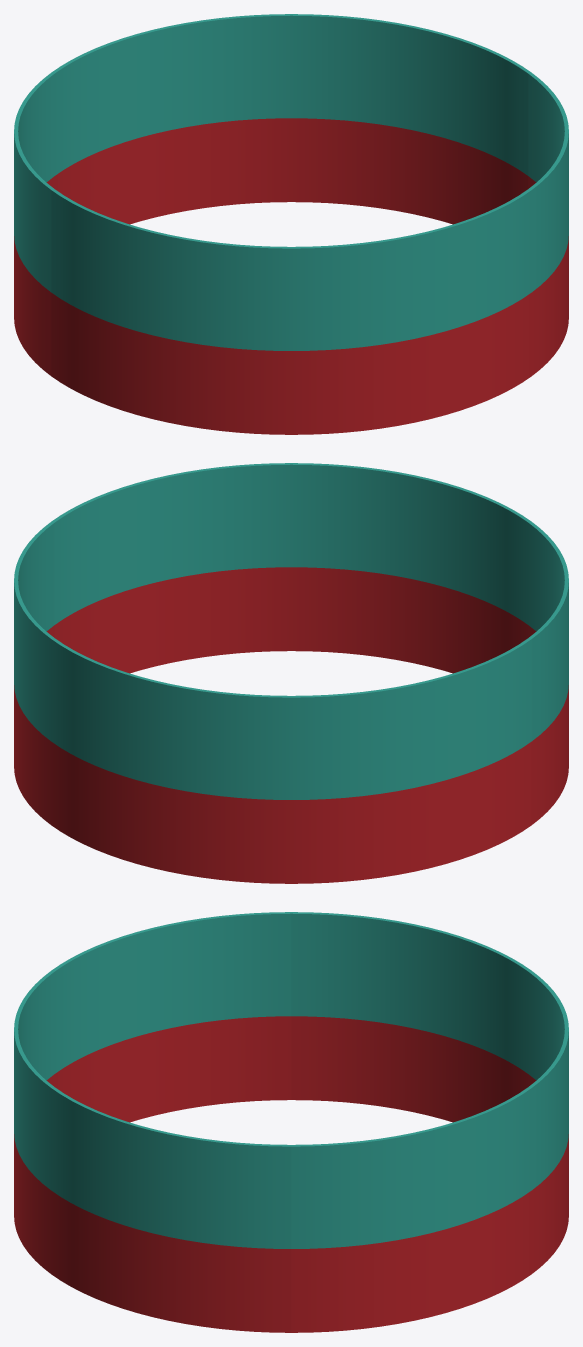
File: mud_settling_tank_pressure.glb
3 renders of one model, top to bottom at view 1: azimuth 30°, elevation 25°; view 2: azimuth 150°, elevation 25°; view 3: azimuth 270°, elevation 25°, orthographic.
Parts seen in each view (by area): view 1: pressure__front, pressure__back; view 2: pressure__back, pressure__front; view 3: pressure__back, pressure__front.
Boxes of the visible parts, x1,y1,x2,y2 form: pressure__front: [51, 72, 568, 434]; pressure__back: [14, 14, 531, 375]; pressure__back: [14, 521, 531, 883]; pressure__front: [51, 463, 568, 824]; pressure__back: [291, 912, 568, 1332]; pressure__front: [14, 912, 291, 1332].
Size of the model in its own units: 2.7 by 1 by 2.7.
